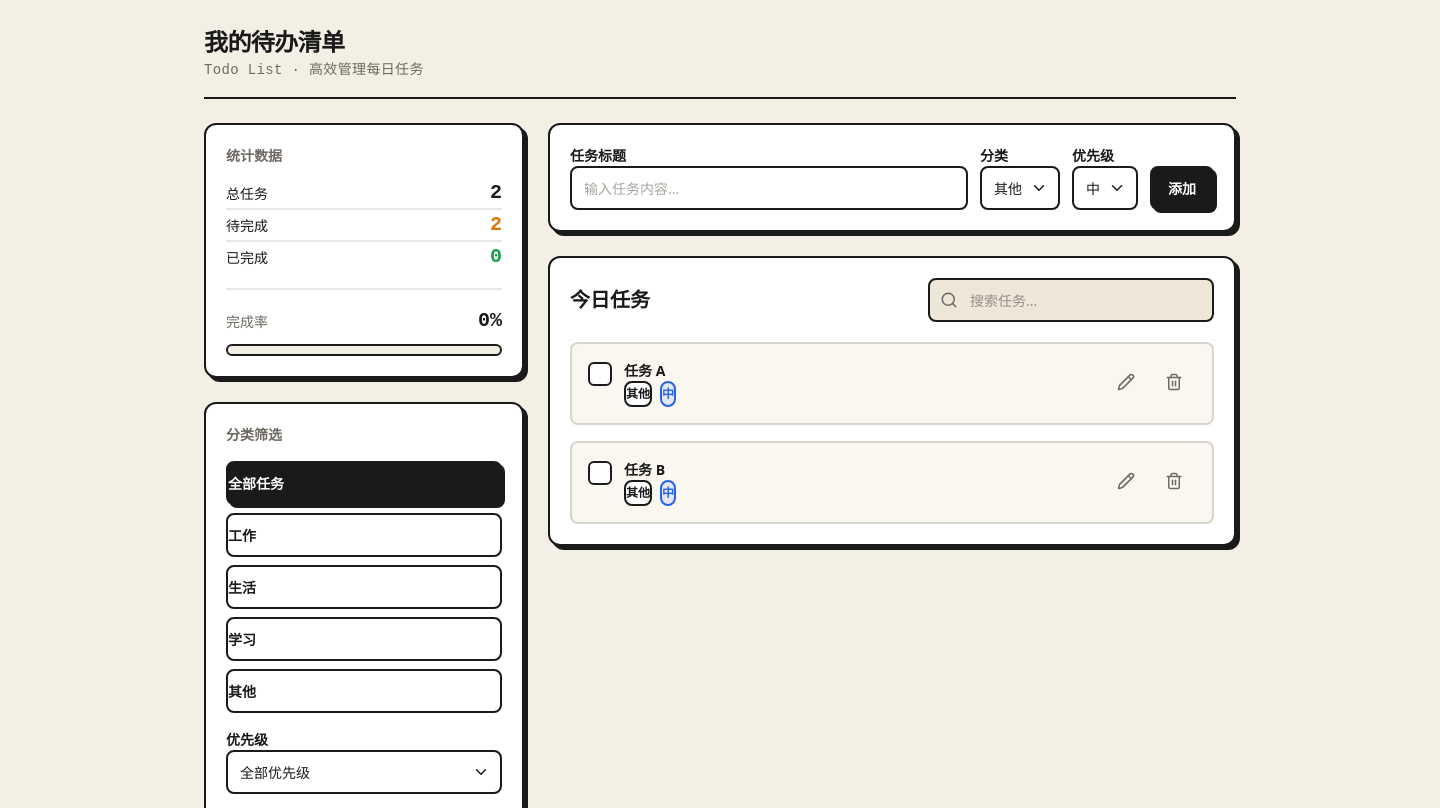
Test: App 表单接入 › 编辑保存后原地更新，列表位置不变
Step 1. Click the button named "编辑「任务 A」" → (1126, 382), box [1104,360,1148,404]
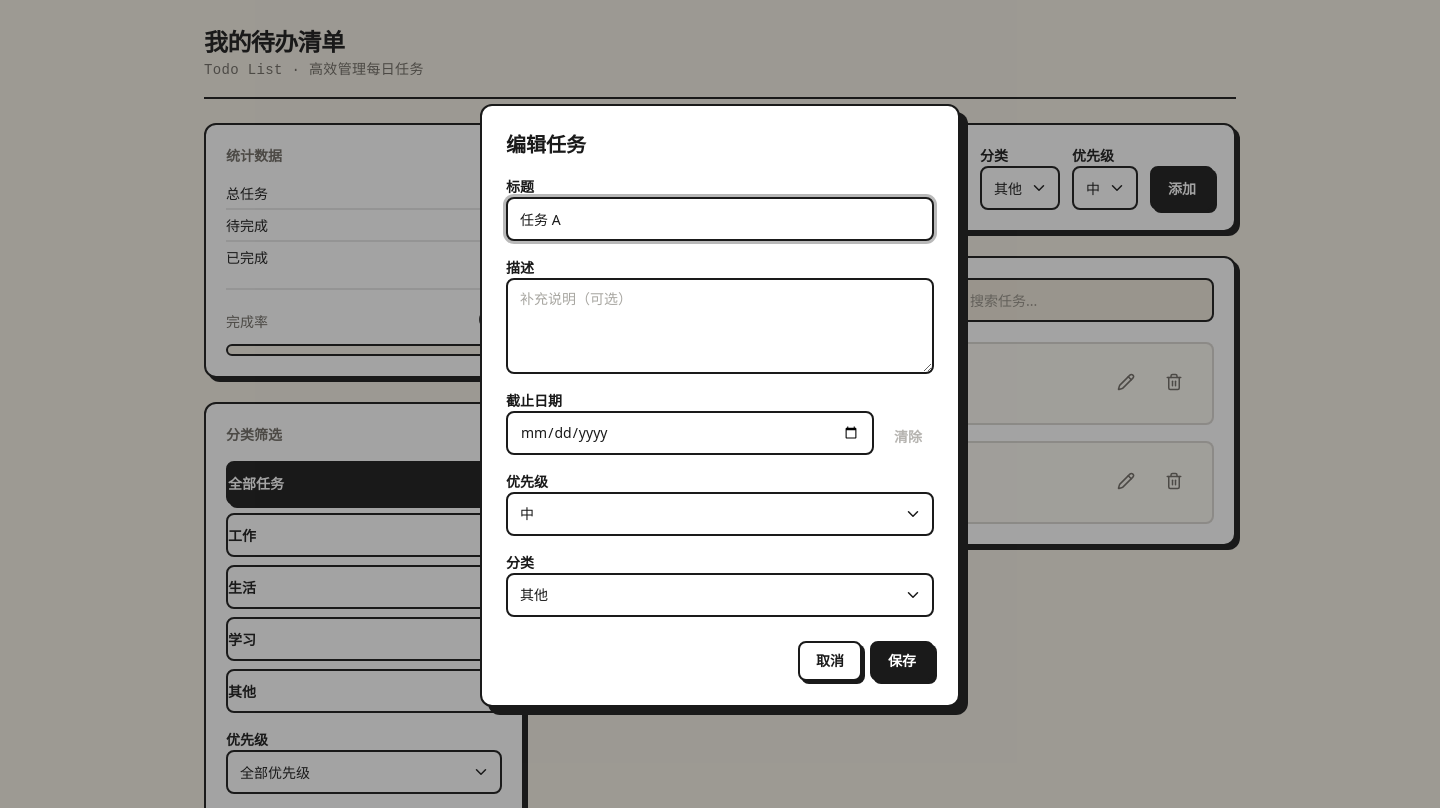
Step 2. Replace the text in the field labelled "标题" with "任务 A2" → (720, 218), box [506,196,934,240]
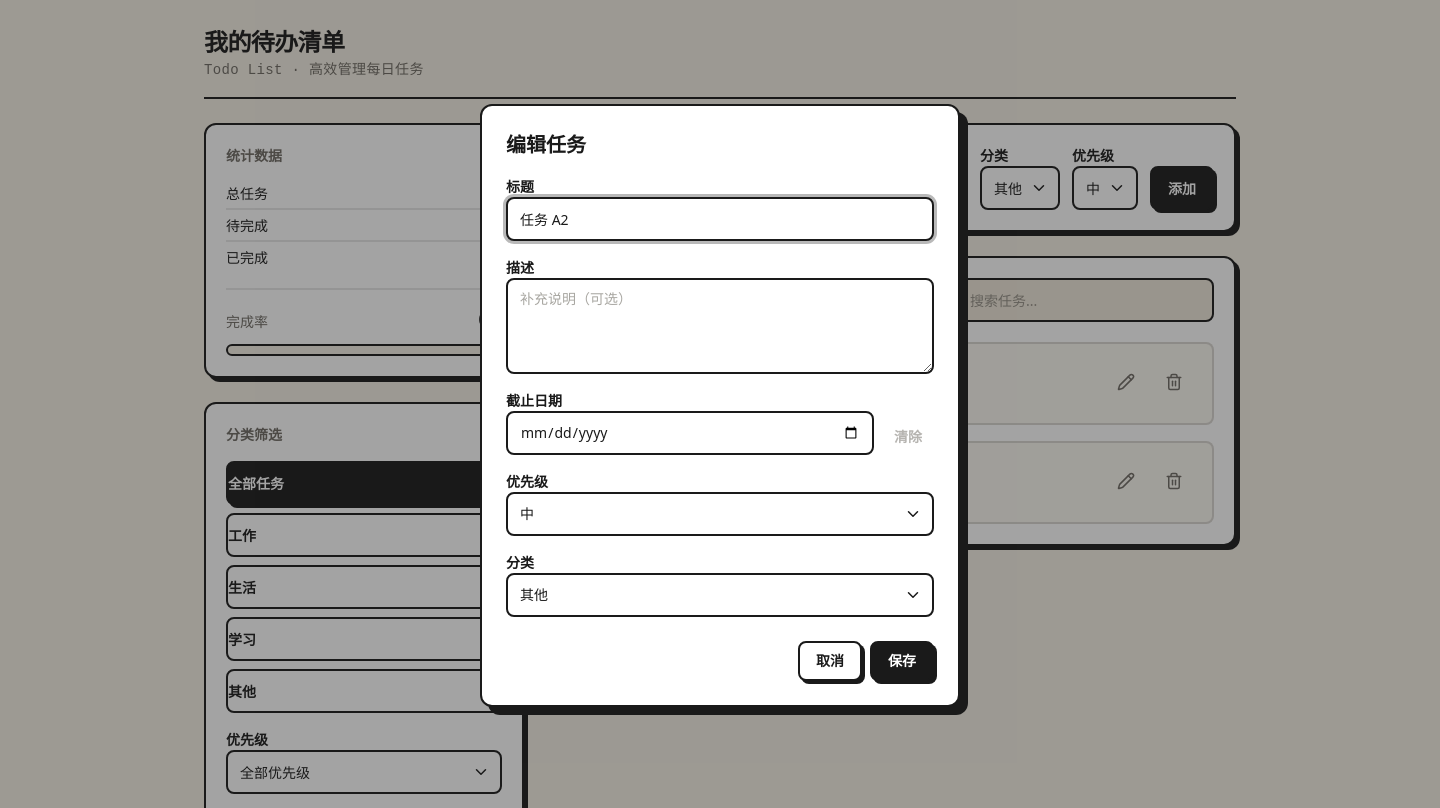
Step 3. Click the button "保存" → (902, 660), box [870,640,934,680]
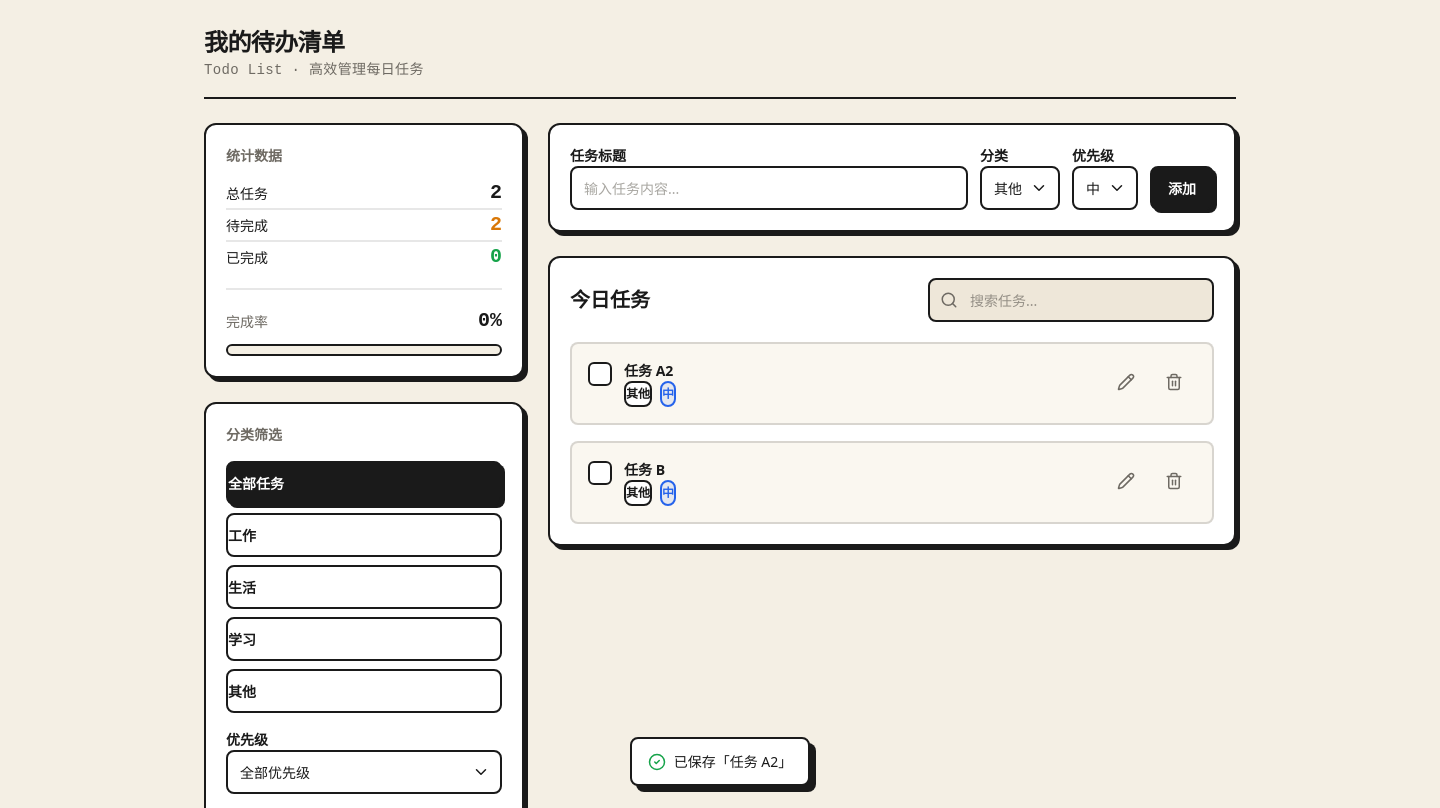
Now the text "任务 A2" is shown, box [624,361,673,380]
Now the message reads "已保存「任务 A2」", box [674,752,792,771]
